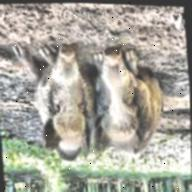boar: (15, 24, 94, 174), (85, 36, 175, 165)
